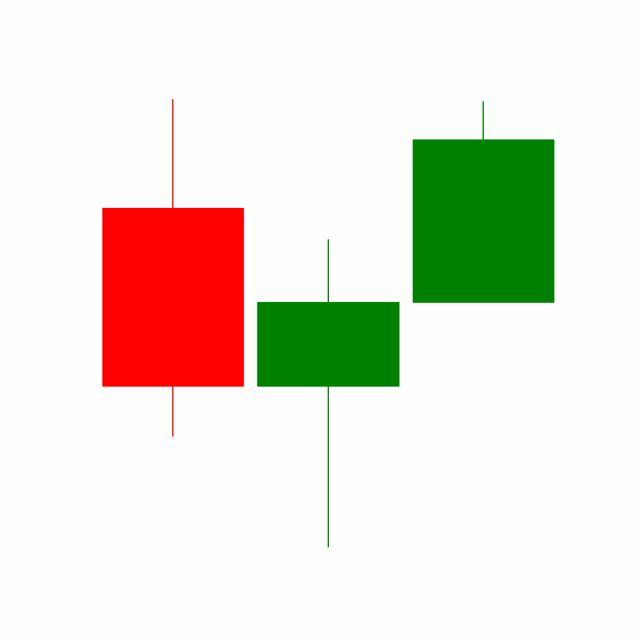Marubozu: (406, 100, 562, 306)
